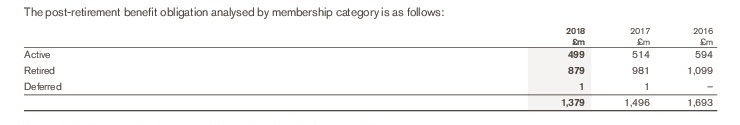table: (0, 0, 740, 125)
